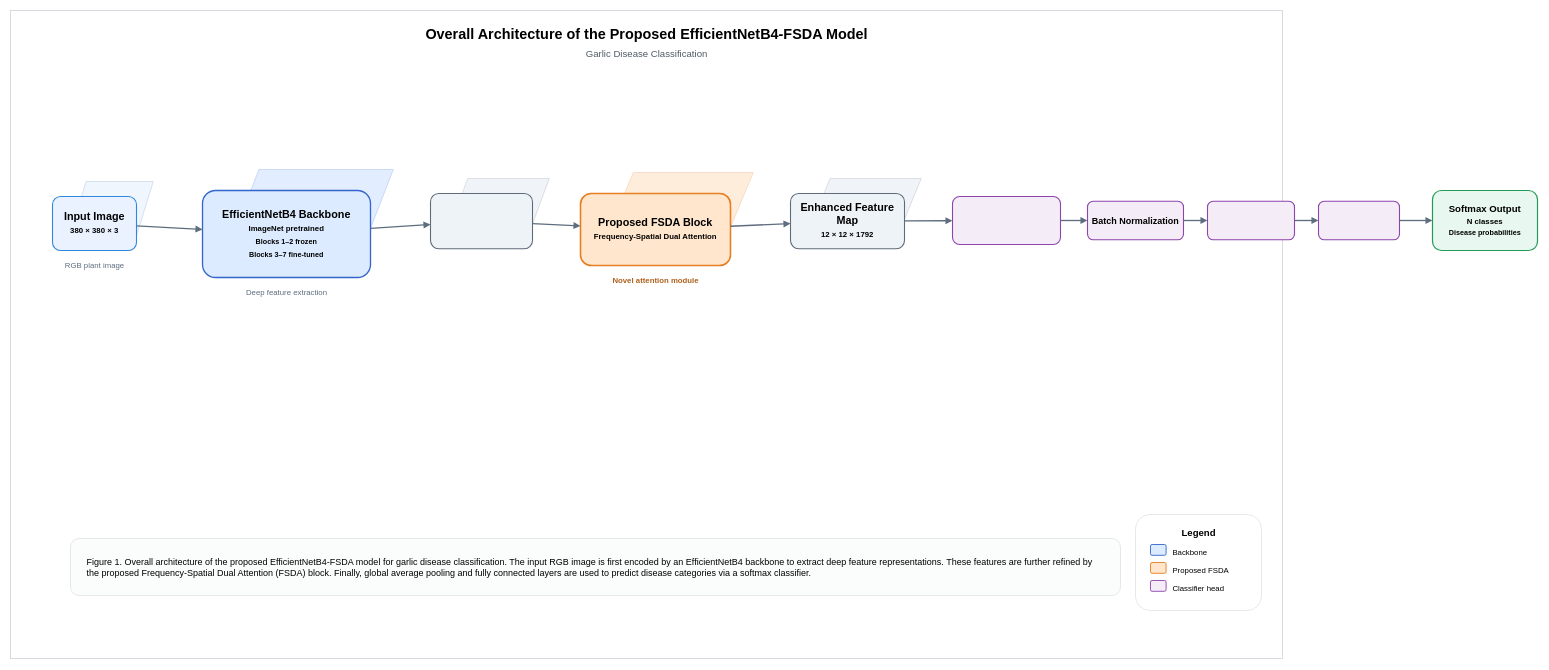
This 1549x670 diagram has some shape labels left out. Here are the shapes that lost their labels. From the top down, the centre of each, then its label:
At (x=481, y=221): "Feature Map 12 × 12 × 1792".
At (x=1006, y=220): "Global Average Pooling 1792".
At (x=1251, y=220): "FC 256 + ReLU 256".
At (x=1359, y=220): "Dropout 0.5".
